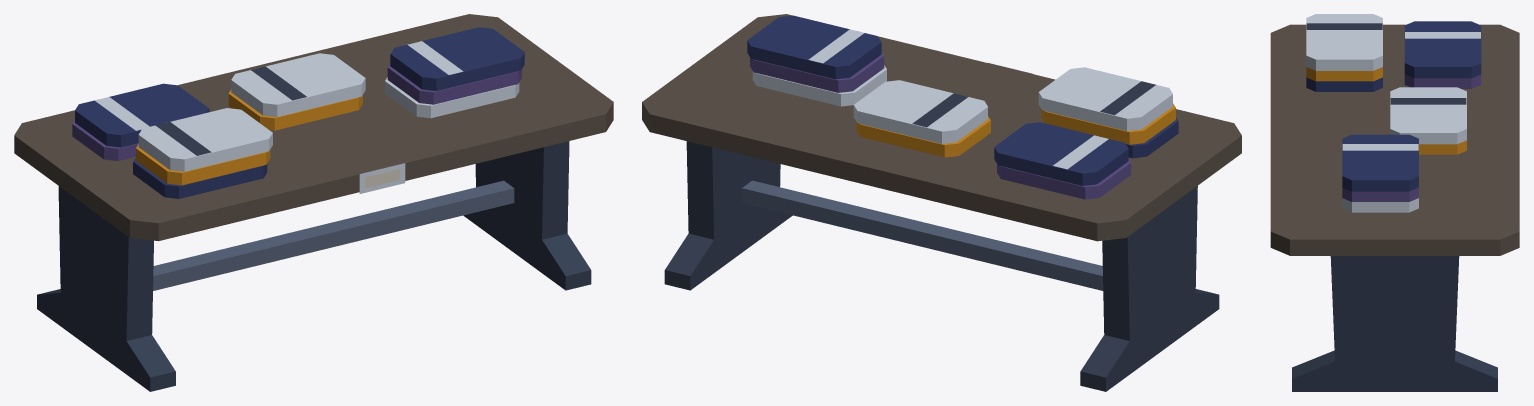
The model's file is mall_display_table.glb.
3 renders of one model, left to right at view 1: azimuth 30°, elevation 25°; view 2: azimuth 150°, elevation 25°; view 3: azimuth 270°, elevation 25°, orthographic. The views are drawn at different scales.
Visible parts, largest first — view 1: tabletop, paper_band.004, folded_knit.004, folded_knit.001, stretcher, folded_knit.003, folded_knit; view 2: tabletop, paper_band.004, folded_knit.004, folded_knit.001, stretcher, folded_knit, folded_knit.003; view 3: tabletop, paper_band.004, folded_knit.004, folded_knit.001, folded_knit, folded_knit.003.
Part boxes in pixels (<box>): tabletop: <box>14,14,613,241</box>; paper_band.004: <box>37,66,591,391</box>; folded_knit.004: <box>95,41,519,193</box>; folded_knit.001: <box>75,27,524,198</box>; stretcher: <box>153,180,514,290</box>; folded_knit.003: <box>136,89,362,185</box>; folded_knit: <box>72,64,521,160</box>; tabletop: <box>642,14,1241,241</box>; paper_band.004: <box>664,81,1219,391</box>; folded_knit.004: <box>752,29,1172,169</box>; folded_knit.001: <box>747,15,1178,185</box>; stretcher: <box>742,180,1103,290</box>; folded_knit: <box>750,52,1131,199</box>; folded_knit.003: <box>856,103,1175,157</box>; tabletop: <box>1270,24,1519,255</box>; paper_band.004: <box>1292,23,1497,391</box>; folded_knit.004: <box>1306,14,1480,212</box>; folded_knit.001: <box>1306,21,1481,191</box>; folded_knit: <box>1342,74,1481,201</box>; folded_knit.003: <box>1306,67,1466,154</box>.
Size of the model in its own units: 2.12 by 0.907 by 1.04.
